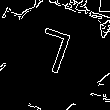L_S: (31, 26, 79, 84)
